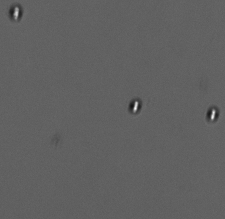Living Cell: (7, 3, 24, 22), (204, 105, 221, 123), (127, 97, 143, 114)
